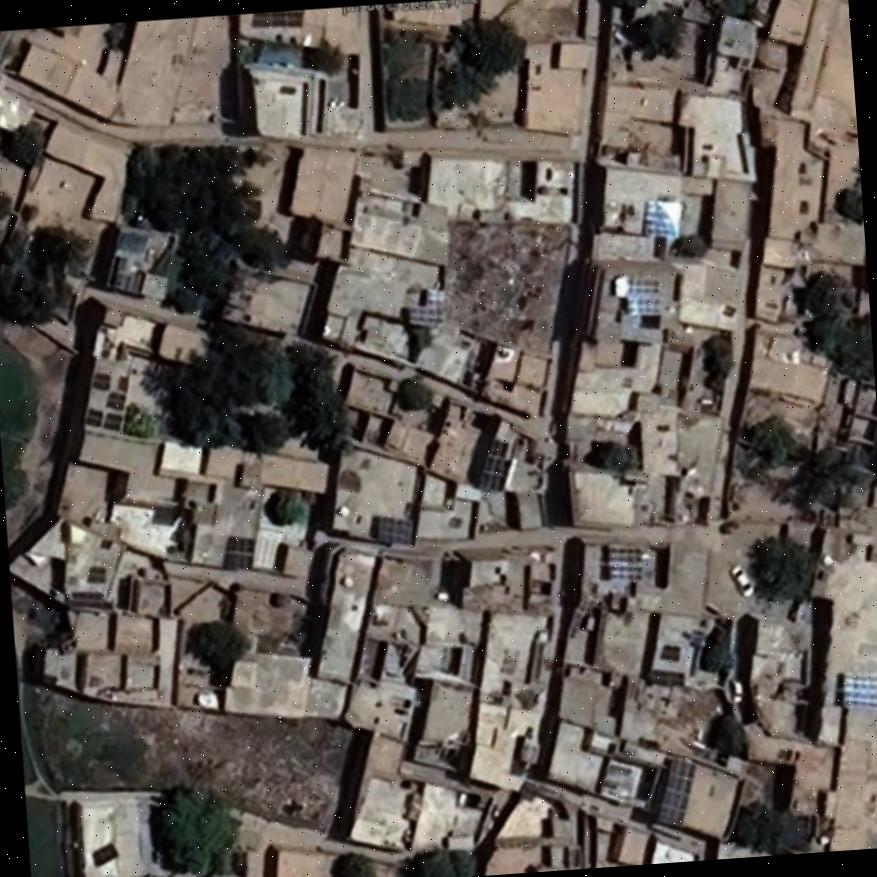Solarpanel: (656, 760, 695, 824), (625, 286, 677, 316), (642, 202, 679, 234), (839, 677, 877, 706), (607, 545, 638, 577), (374, 518, 413, 540), (223, 539, 253, 565)
